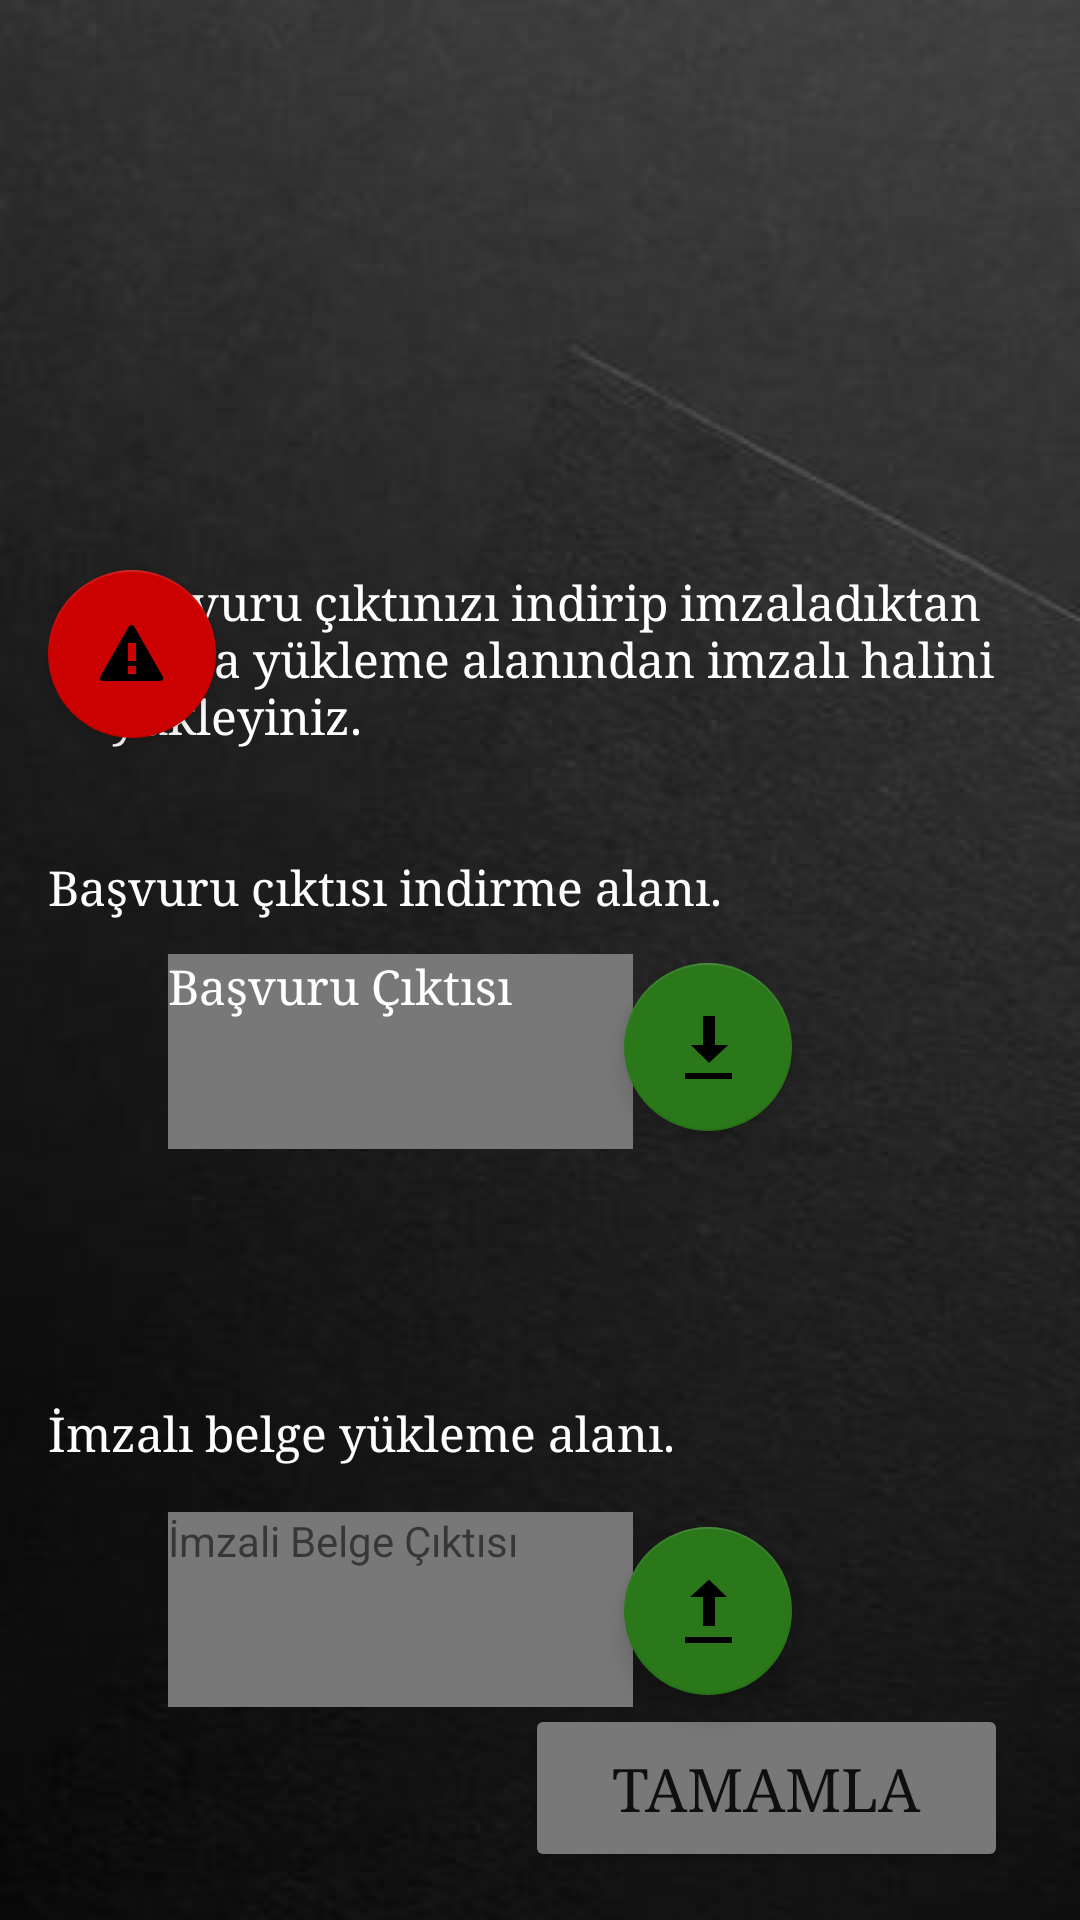

Icons on this 1080*1920 Android screen, each with the point to tap as (x=x, y=y):
download: (x=708, y=1047)
upload: (x=708, y=1611)
warning: (x=132, y=654)
